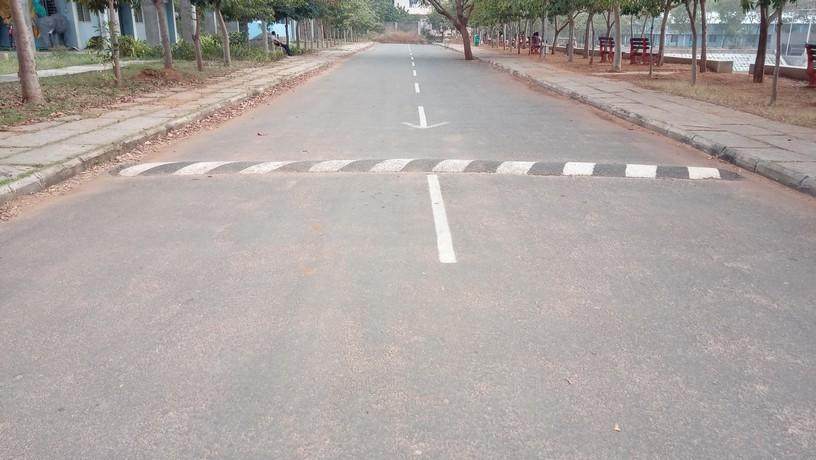speed-bump: (110, 154, 743, 182)
